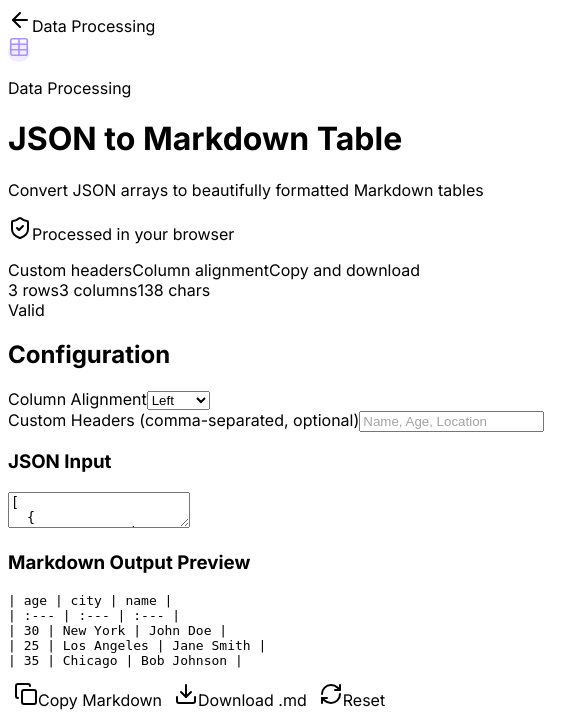
Test: JSON to Markdown Table Page - Component Tests › should show error for invalid JSON
# Wait for CodeMirror to load
Clear the text box with test id "code-editor": x=99, y=510 [8,492,190,528]
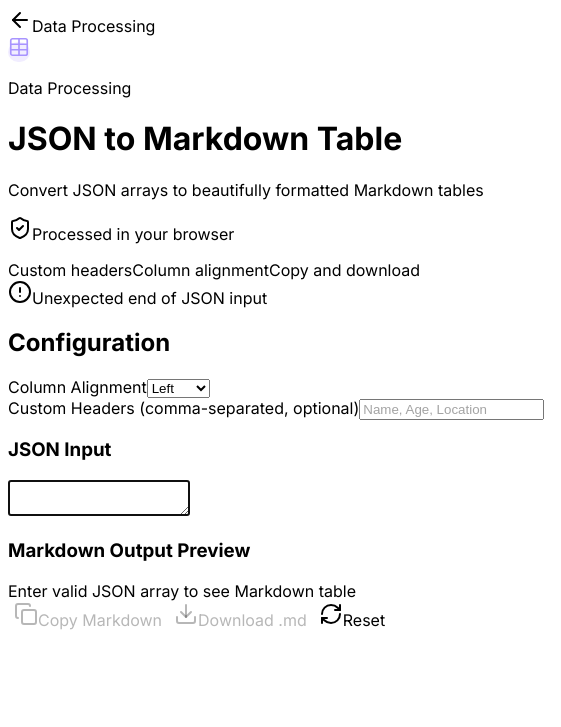
In the text box with test id "code-editor": x=99, y=498 [8,480,190,516], type "invalid json"
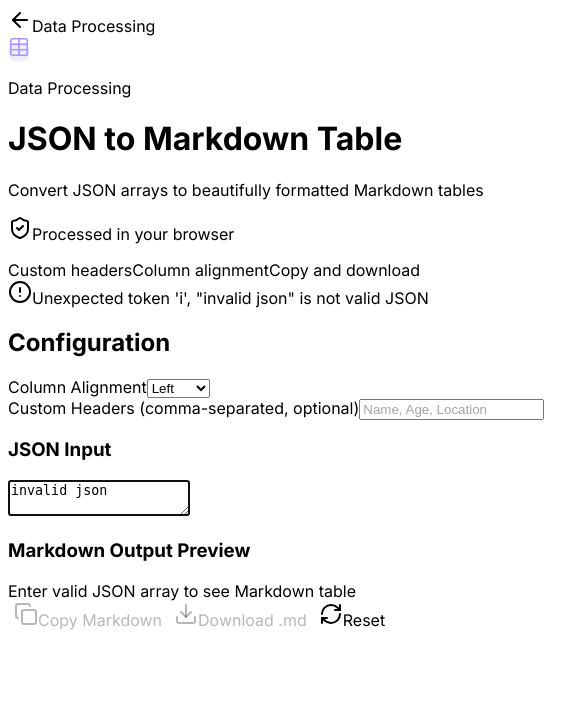
Expected: the text "Unexpected token 'i', \"invalid json\" is not valid JSON" is shown, [32,288,429,308]
